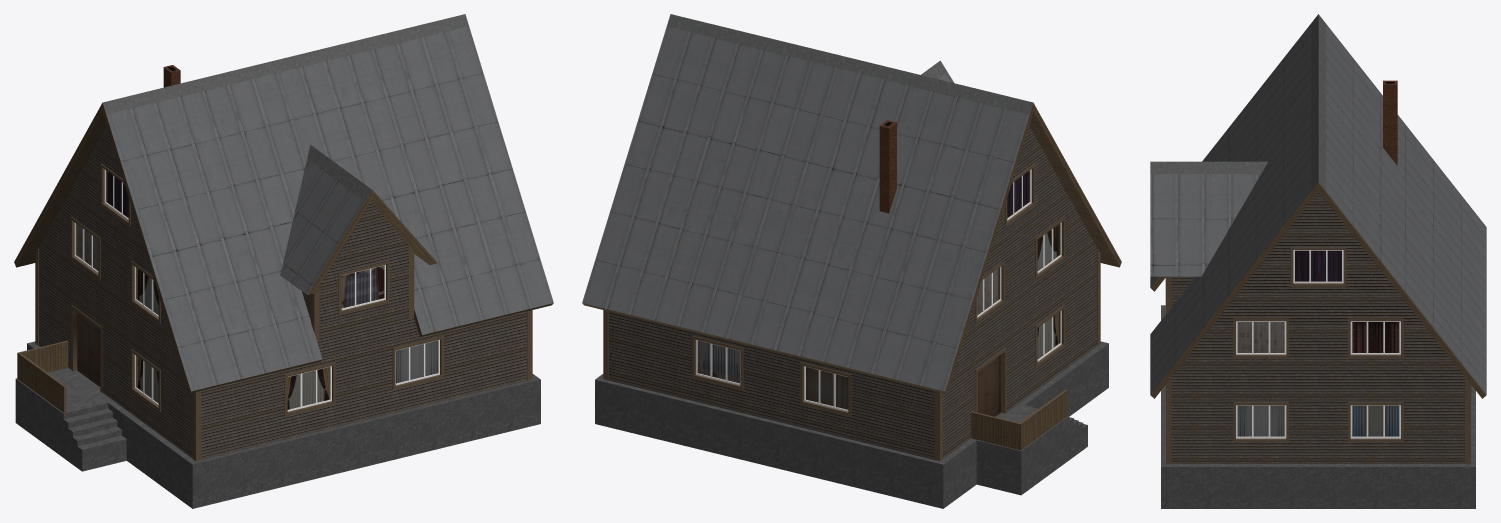
File: two-story_wooden_house.FBX
The picture shows the model from 3 angles, left to right: view 1: azimuth 30°, elevation 25°; view 2: azimuth 150°, elevation 25°; view 3: azimuth 270°, elevation 25°; orthographic projection. The views are drawn at different scales.
Visible parts, largest first — view 1: two-story_wooden_house; view 2: two-story_wooden_house; view 3: two-story_wooden_house.
Part boxes in pixels (<box>): two-story_wooden_house: <box>14,14,553,508</box>; two-story_wooden_house: <box>582,14,1121,508</box>; two-story_wooden_house: <box>1150,14,1486,508</box>.
Size of the model in its own units: 1489 by 1235 by 1140.
Materials: 13 (13 with a texture image).
